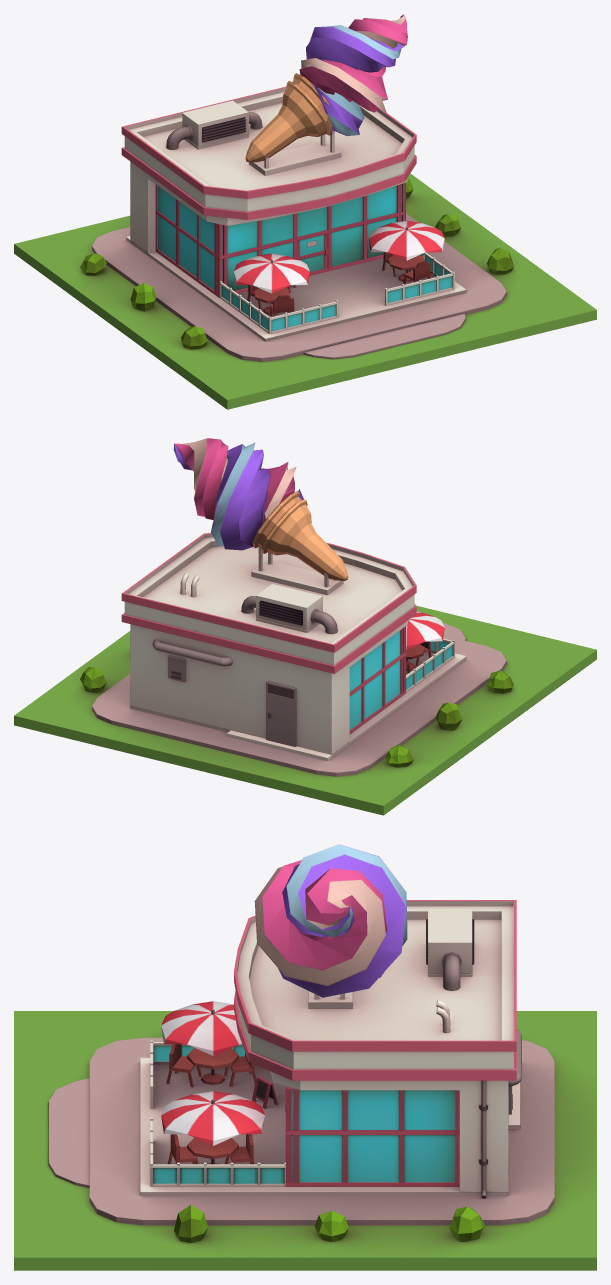
File: IceCreamShop.glb
3 views of the same model, one above another, from view 1: azimuth 30°, elevation 25°; view 2: azimuth 150°, elevation 25°; view 3: azimuth 270°, elevation 25° (orthographic). The views are drawn at different scales.
Parts seen in each view (by area): view 1: ice_cream_shop_building, ice_cream_road, ice_cream_shop_windows; view 2: ice_cream_shop_building, ice_cream_road, ice_cream_shop_windows; view 3: ice_cream_road, ice_cream_shop_building, ice_cream_shop_windows.
Part boxes in pixels (left/top/right/bottom): ice_cream_shop_building: left=80, top=14, right=513, bottom=349; ice_cream_road: left=14, top=173, right=596, bottom=409; ice_cream_shop_windows: left=158, top=183, right=452, bottom=331; ice_cream_shop_building: left=80, top=438, right=513, bottom=767; ice_cream_road: left=14, top=605, right=596, bottom=815; ice_cream_shop_windows: left=349, top=628, right=452, bottom=730; ice_cream_road: left=14, top=1011, right=596, bottom=1270; ice_cream_shop_building: left=150, top=844, right=521, bottom=1242; ice_cream_shop_windows: left=153, top=1045, right=455, bottom=1183.
Size of the model in its own units: 1294 by 807 by 1294.
Materials: 3 (3 with a texture image).
